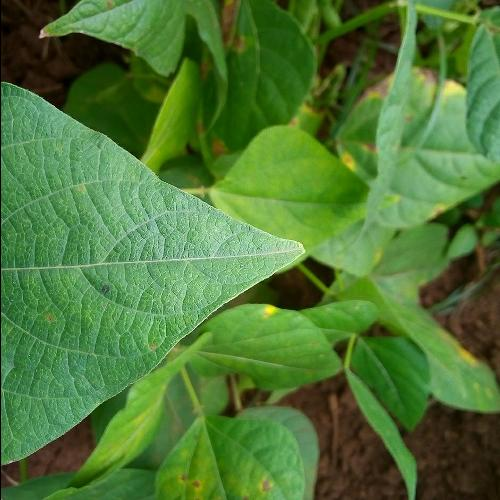mozaik: (0, 296, 161, 353), (7, 136, 98, 210), (155, 212, 216, 290)
